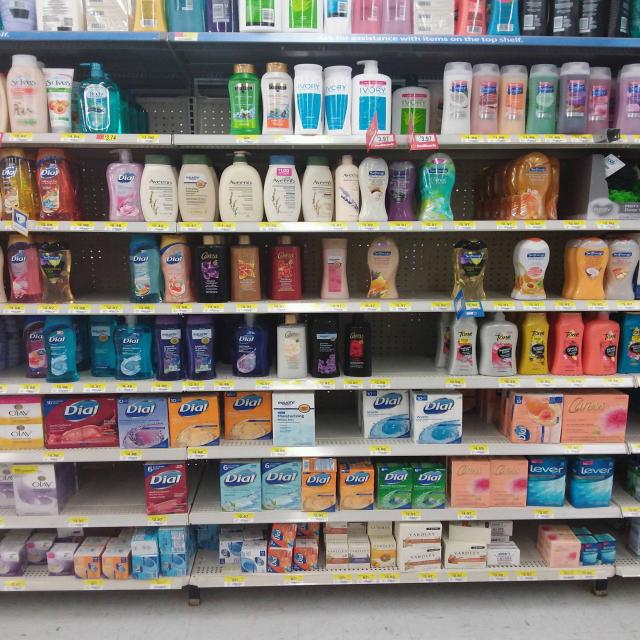empty: (110, 54, 231, 131), (60, 463, 144, 517), (70, 241, 134, 305), (375, 313, 440, 375), (457, 149, 510, 220), (314, 383, 364, 452), (457, 388, 511, 449), (75, 150, 111, 219), (188, 456, 223, 518), (520, 517, 546, 571), (612, 521, 636, 578)
